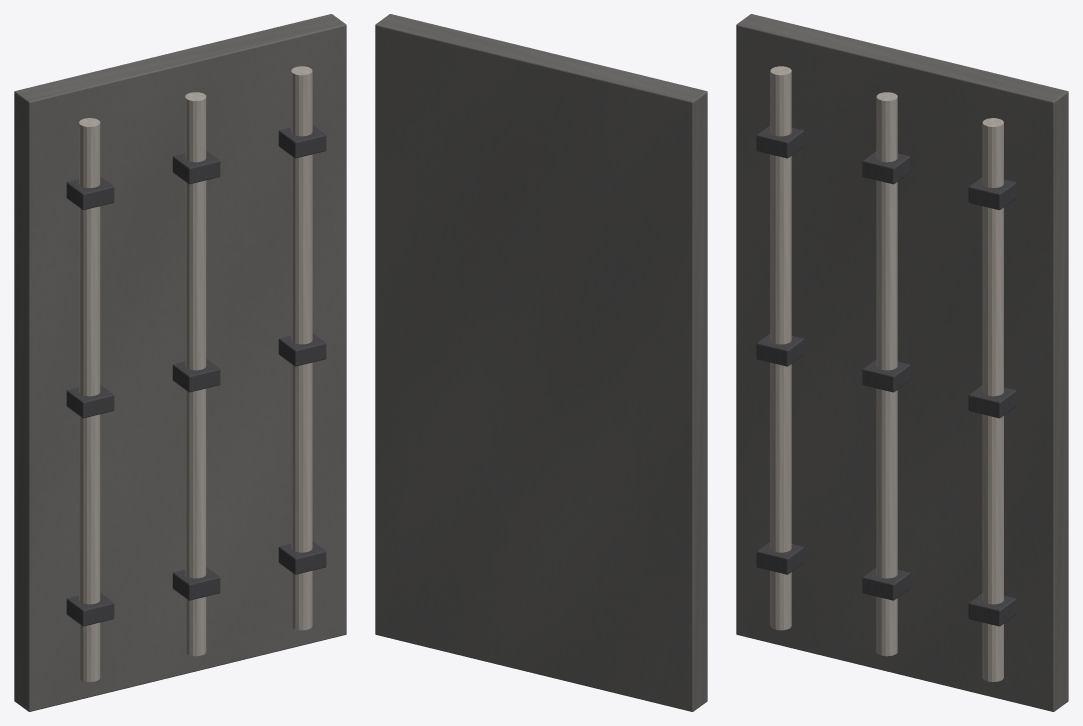
Rendered from pipe_service_panel.glb.
3 views of the same model, side by side, from view 1: azimuth 30°, elevation 25°; view 2: azimuth 150°, elevation 25°; view 3: azimuth 330°, elevation 25° (orthographic).
Visible parts, largest first — view 1: backplate, vertical_pipe.002, vertical_pipe.001, vertical_pipe, pipe_bracket.003, pipe_bracket.007, pipe_bracket.005, pipe_bracket.006, pipe_bracket.004, pipe_bracket.008, pipe_bracket, pipe_bracket.001 (+1 smaller); view 2: backplate; view 3: backplate, vertical_pipe, vertical_pipe.001, vertical_pipe.002, pipe_bracket.003, pipe_bracket.001, pipe_bracket.005, pipe_bracket, pipe_bracket.002, pipe_bracket.004, pipe_bracket.006, pipe_bracket.007 (+1 smaller).
Part boxes in pixels (x1,y1,x2,y2): backplate: (14,14,346,711); vertical_pipe.002: (291,66,312,630); vertical_pipe.001: (185,92,206,656); vertical_pipe: (79,118,100,681); pipe_bracket.003: (172,567,220,600); pipe_bracket.007: (278,333,326,366); pipe_bracket.005: (172,151,220,184); pipe_bracket.006: (278,541,326,574); pipe_bracket.004: (172,359,220,392); pipe_bracket.008: (278,125,326,158); pipe_bracket: (66,593,114,626); pipe_bracket.001: (66,385,114,418); backplate: (375,14,707,711); backplate: (736,14,1068,711); vertical_pipe: (770,66,791,630); vertical_pipe.001: (876,92,897,656); vertical_pipe.002: (982,118,1003,681); pipe_bracket.003: (862,567,910,600); pipe_bracket.001: (756,333,804,366); pipe_bracket.005: (862,151,910,184); pipe_bracket: (756,541,804,574); pipe_bracket.002: (756,125,804,158); pipe_bracket.004: (862,359,910,392); pipe_bracket.006: (968,593,1016,626); pipe_bracket.007: (968,385,1016,418).
Size of the model in its own units: 1.2 by 2.2 by 0.21.
Materials: 3 (3 with a texture image).
